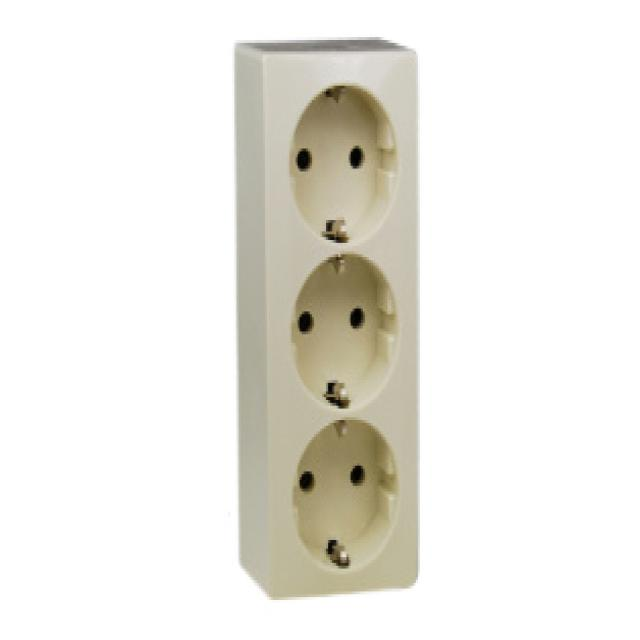typeb: (257, 75, 423, 587)
